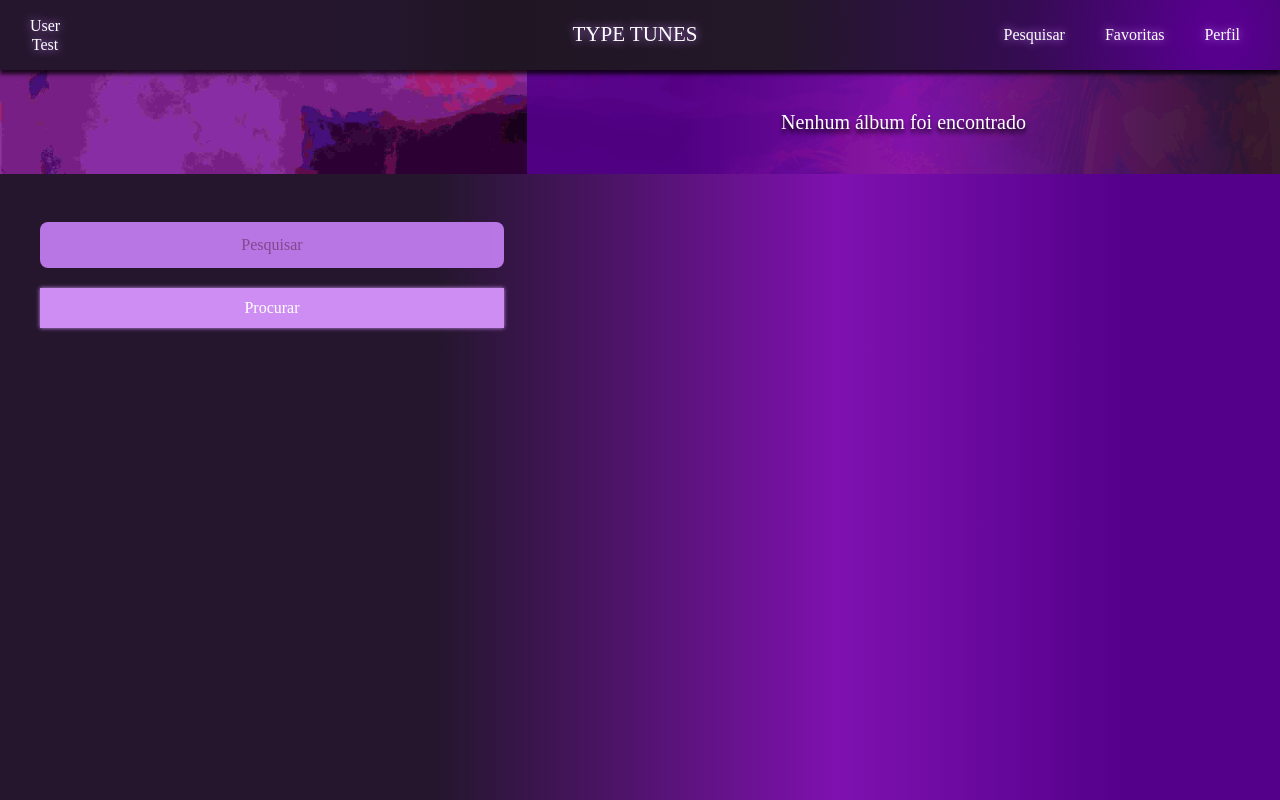
5 - Crie o formulário para pesquisar artistas › Será validado se o botão está habilitado somente se o input de nome tiver 2 ou mais caracteres
Expected: the button with test id "search-artist-button" is disabled, top-left (40, 288), bottom-right (504, 328)
Type "U" into the field with test id "search-artist-input" at [272, 245], box top-left (40, 222), bottom-right (504, 268)
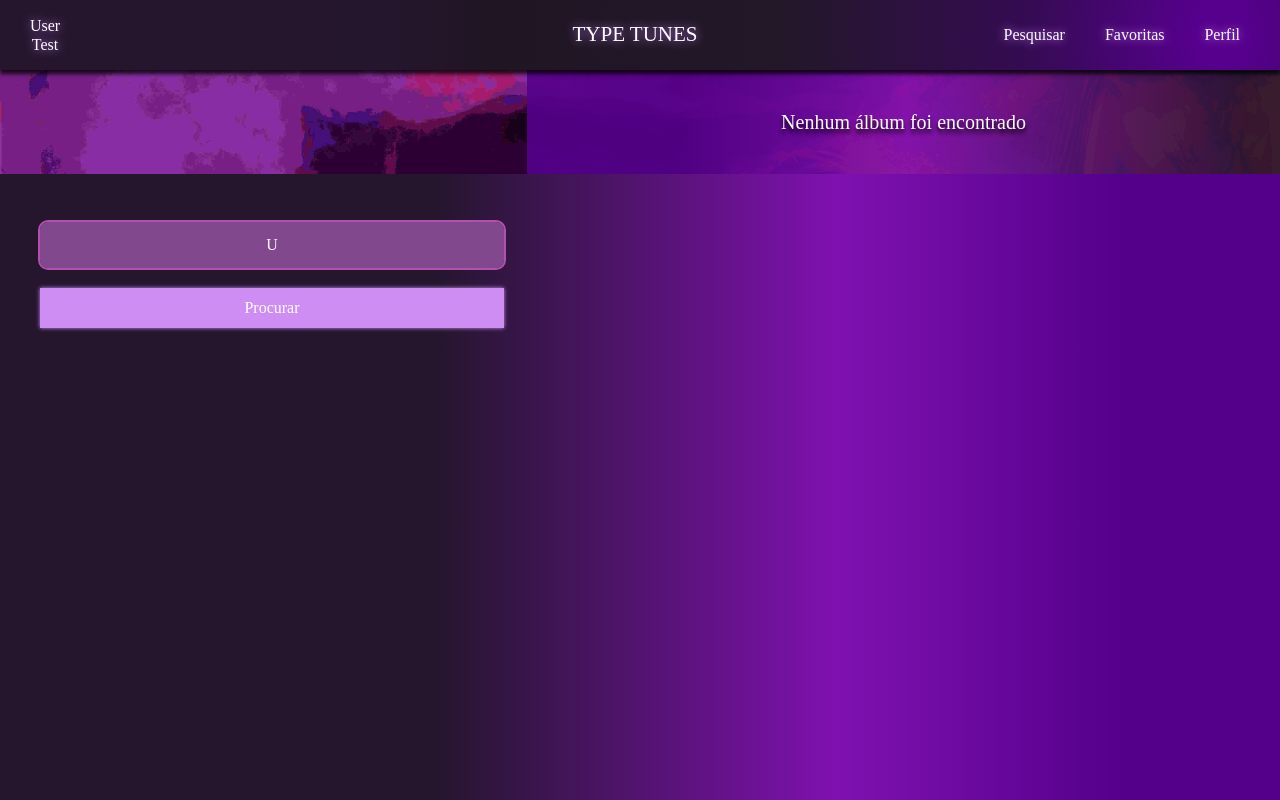
Expected: the button with test id "search-artist-button" is disabled, top-left (40, 288), bottom-right (504, 328)
Type "2" into the field with test id "search-artist-input" at [272, 245], box top-left (40, 222), bottom-right (504, 268)
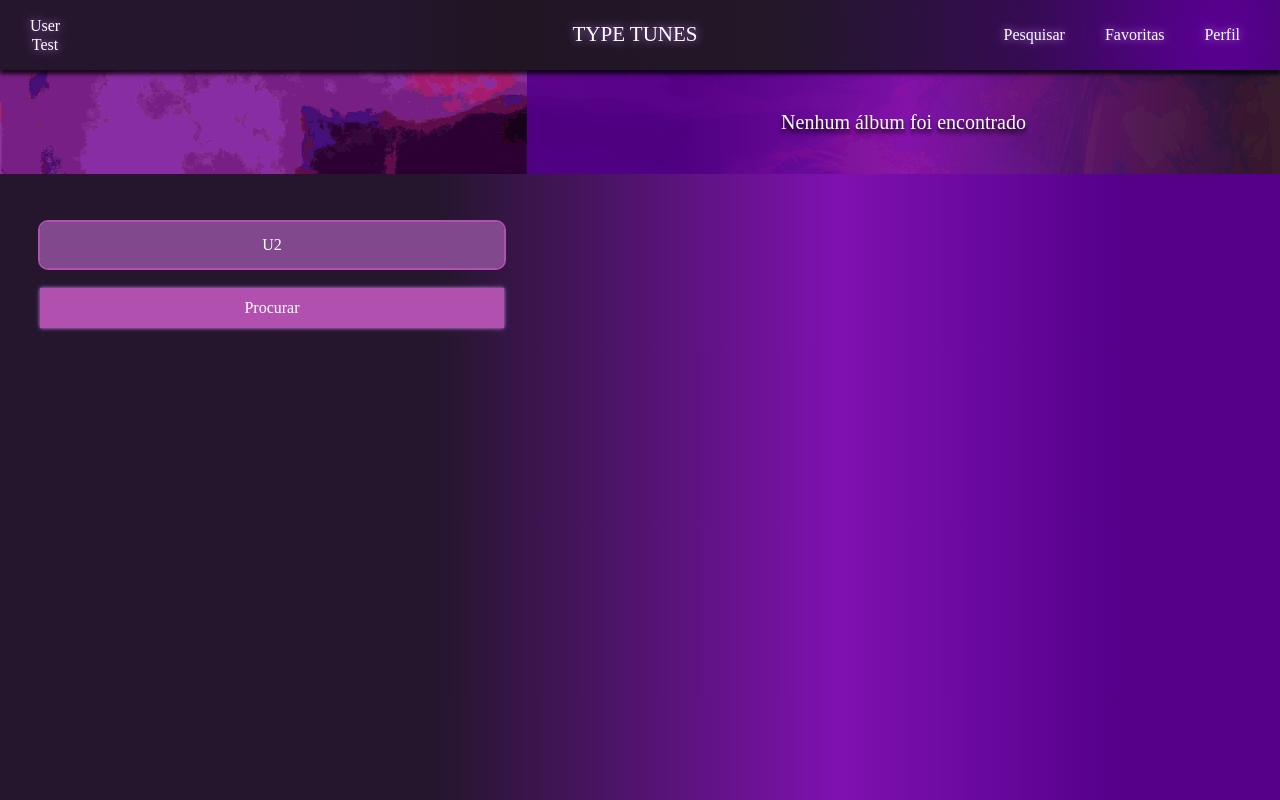
Result: the field with test id "search-artist-input" holds "U2" at top-left (40, 222), bottom-right (504, 268)
Result: the button with test id "search-artist-button" is enabled at top-left (40, 288), bottom-right (504, 328)
